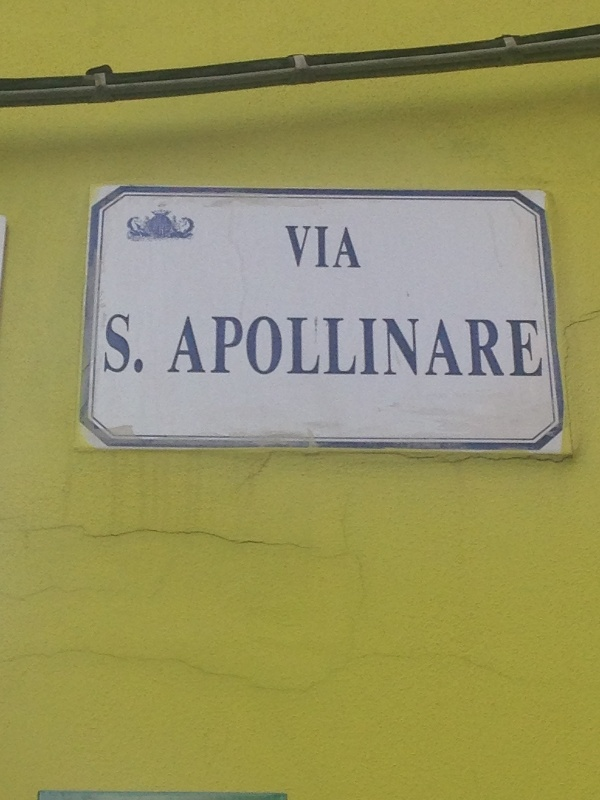text: (113, 313, 128, 380), (129, 313, 144, 380), (193, 314, 208, 380), (209, 314, 224, 380), (225, 314, 240, 380), (241, 314, 256, 380), (257, 314, 272, 380), (273, 314, 288, 380), (289, 314, 304, 380), (305, 314, 320, 380), (321, 314, 336, 380), (337, 314, 352, 380), (353, 314, 368, 380), (369, 314, 384, 380), (385, 314, 400, 380), (401, 314, 416, 380), (417, 314, 432, 380), (433, 314, 448, 380), (449, 314, 464, 380), (465, 314, 480, 380), (481, 314, 496, 380), (497, 314, 512, 380), (513, 314, 528, 380), (529, 314, 544, 380), (289, 226, 304, 270), (305, 226, 320, 270), (321, 226, 336, 270), (337, 226, 352, 270), (353, 226, 362, 270), (186, 314, 192, 380), (107, 313, 112, 380), (286, 226, 288, 270), (145, 313, 146, 380), (545, 314, 546, 380)
